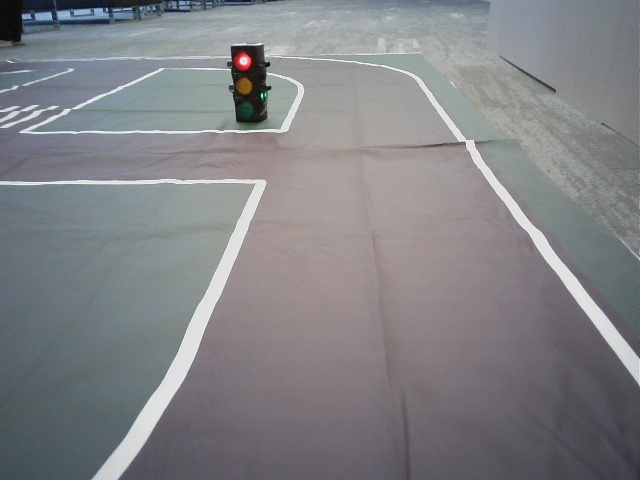red: (233, 46, 258, 117)
